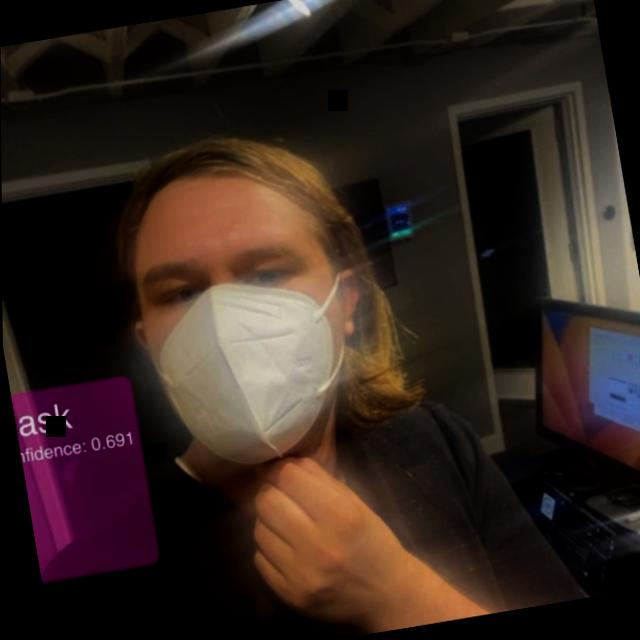Mask: (80, 84, 426, 501)
